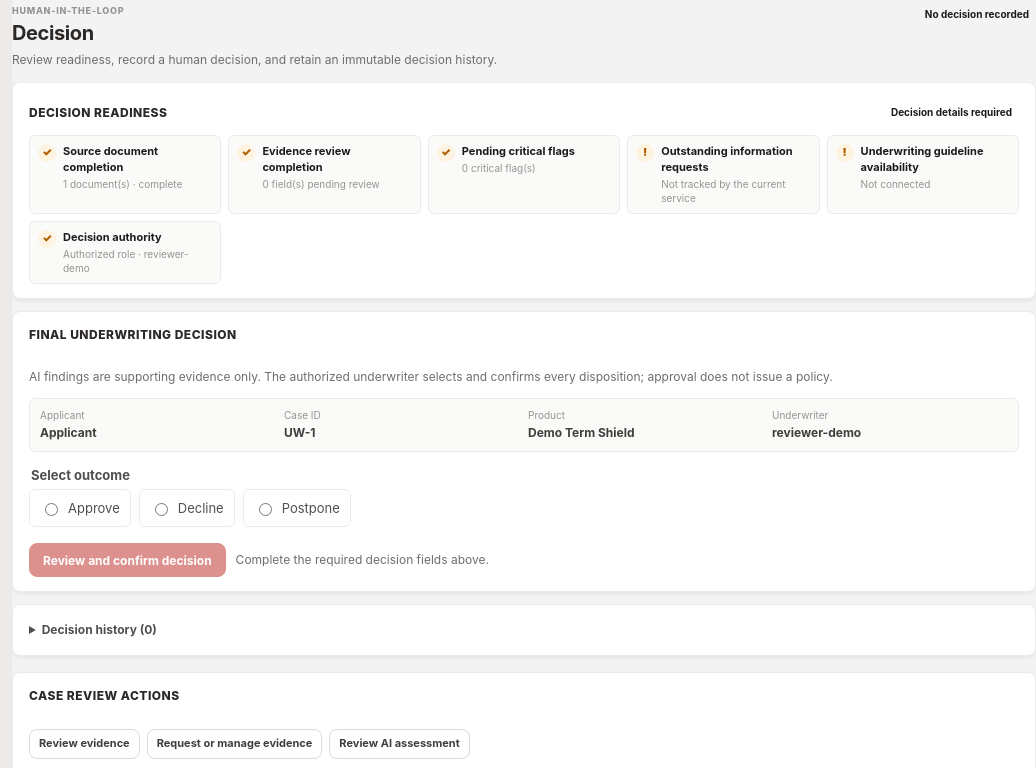
Test: decision cockpit approve defaults › pre-fills sum assured and premium from the proposed terms, editable
Click the radio button labelled "Approve": (52, 510) [45,503,58,516]
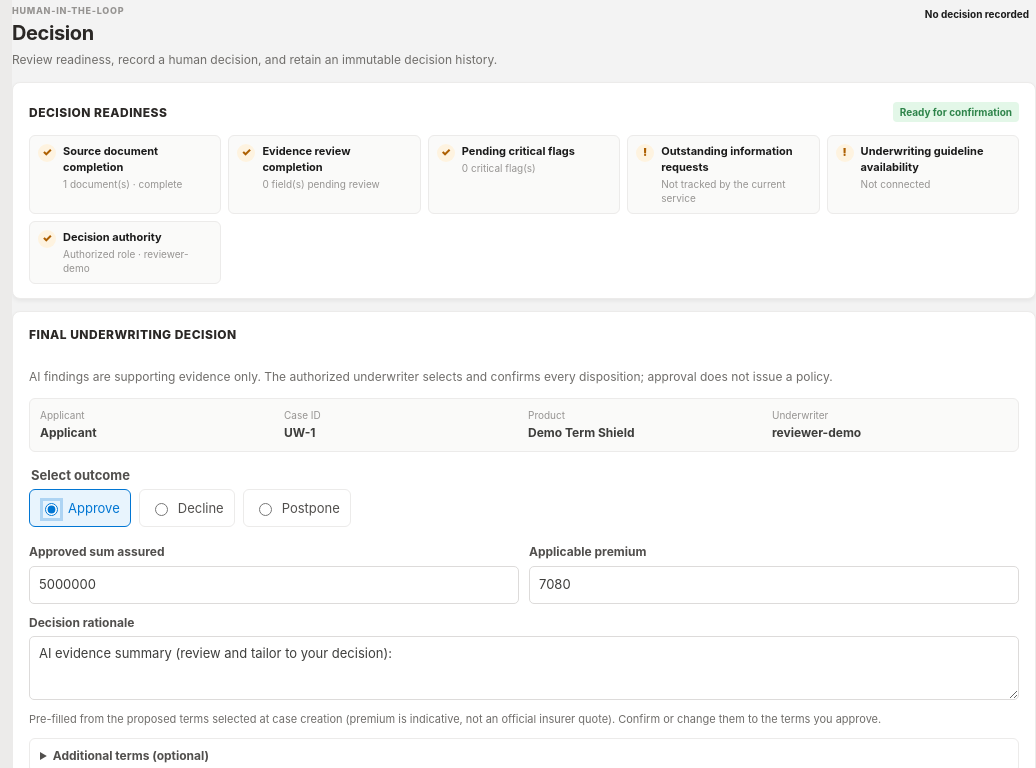
Expected: the number field labelled "Approved sum assured" holds "5000000", [29,566,519,604]
Expected: the number field labelled "Applicable premium" holds "7080"
Replace the text in the number field labelled "Applicable premium" with "9000": (774, 585) [529,566,1019,604]
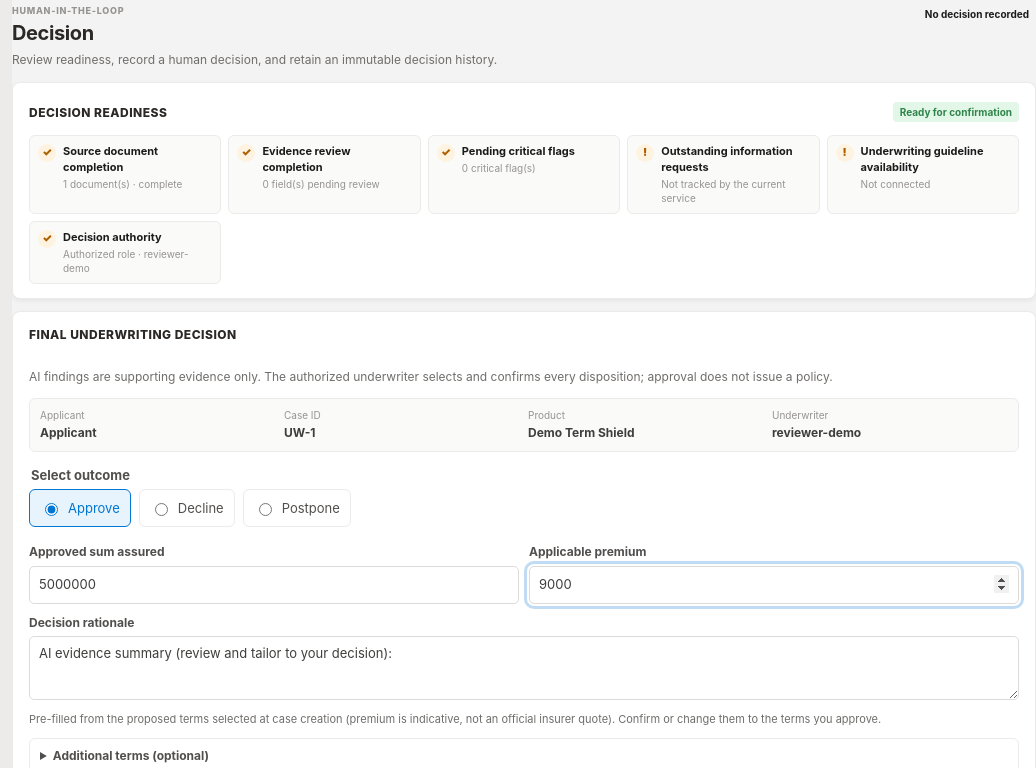
Note: Switching outcome and back keeps the underwriter's edit.
Click the radio button labelled "Decline": (161, 510) [155,503,168,516]
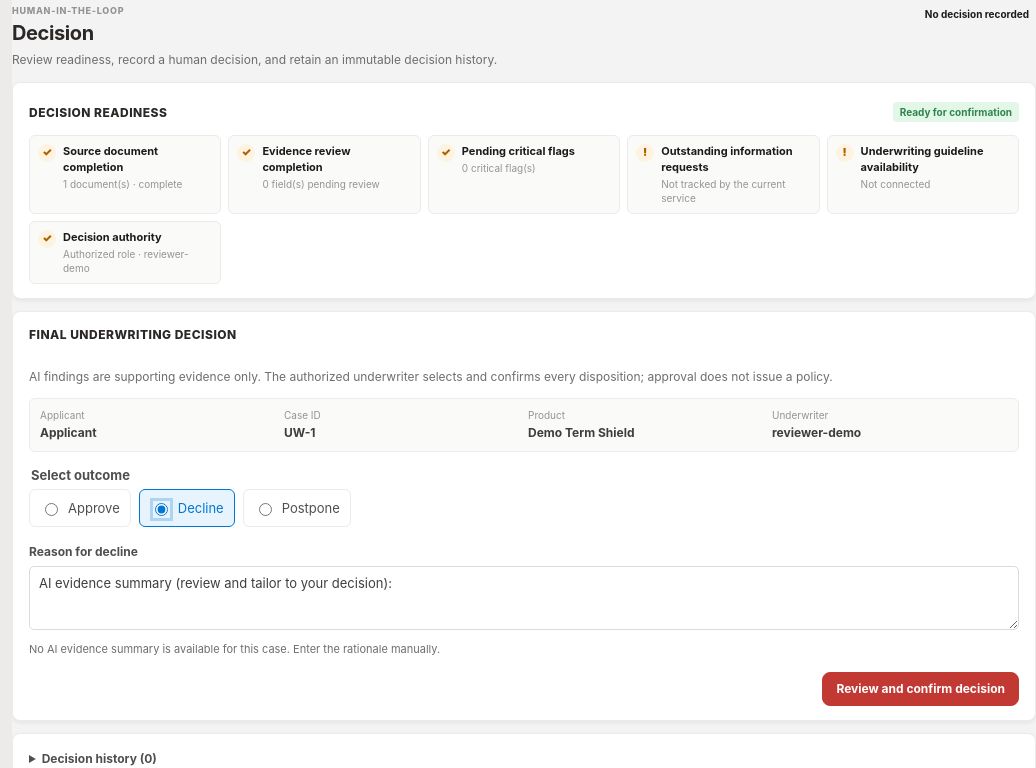
Click the radio button labelled "Approve": (52, 510) [45,503,58,516]
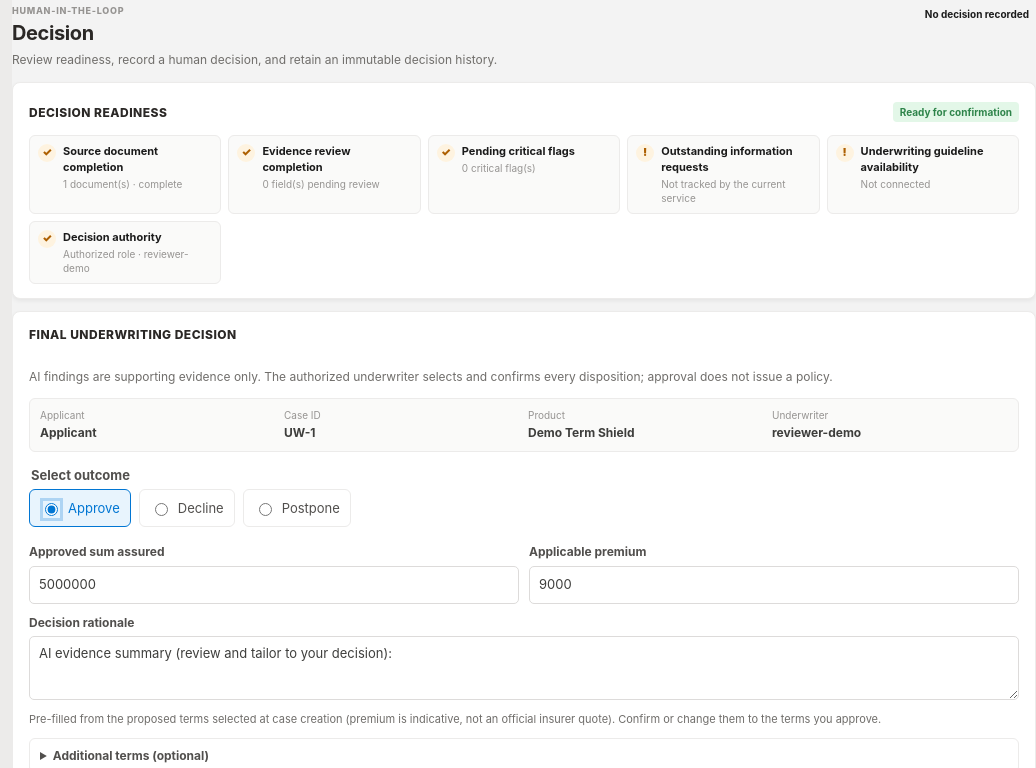
Expected: the number field labelled "Applicable premium" holds "9000", [529,566,1019,604]
